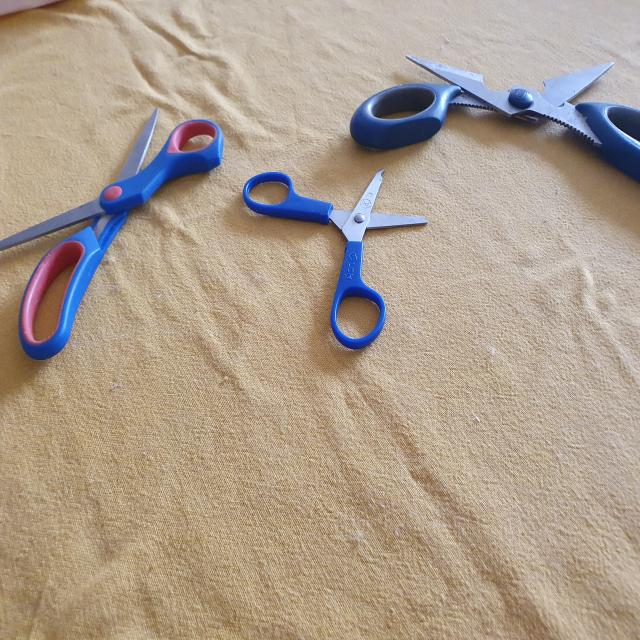scissors: (0, 106, 226, 364), (347, 51, 640, 184), (240, 168, 430, 350)
